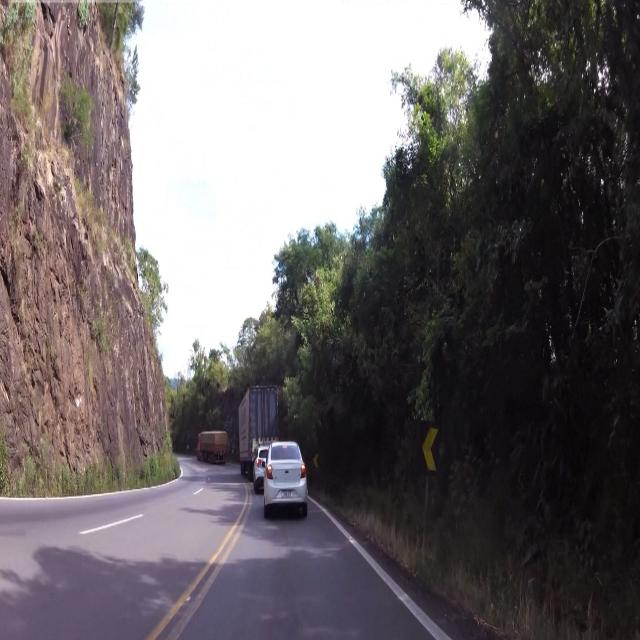Del: (418, 422, 441, 476)
